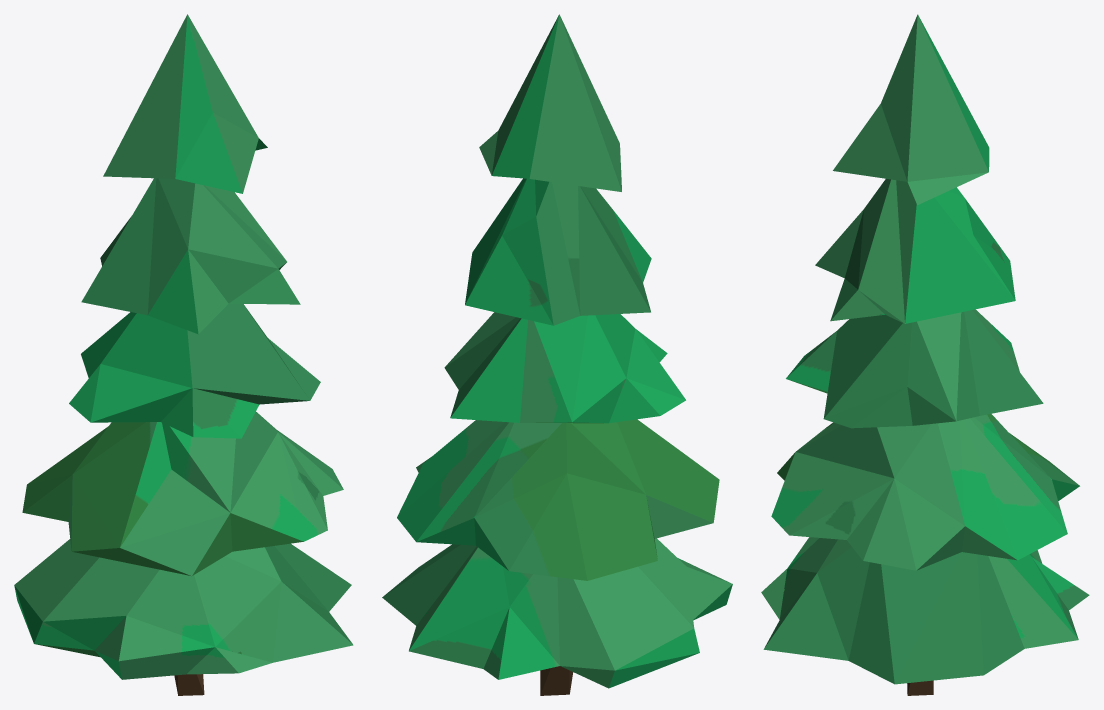
The model's file is Tree_LOD_Three.obj.
3 renders of one model, left to right at view 1: azimuth 30°, elevation 25°; view 2: azimuth 150°, elevation 25°; view 3: azimuth 270°, elevation 25°, orthographic.
Visible parts, largest first — view 1: _8_tree_Cube.007; view 2: _8_tree_Cube.007; view 3: _8_tree_Cube.007.
Boxes of the visible parts, box(x1,y1,x2,y2) form: _8_tree_Cube.007: box(14, 14, 353, 695); _8_tree_Cube.007: box(382, 14, 732, 695); _8_tree_Cube.007: box(761, 14, 1089, 695).
Size of the model in its own units: 0.942 by 2.04 by 0.899.
1 material, 1 textured.
